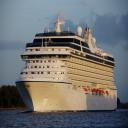cruises: (15, 14, 119, 116)
